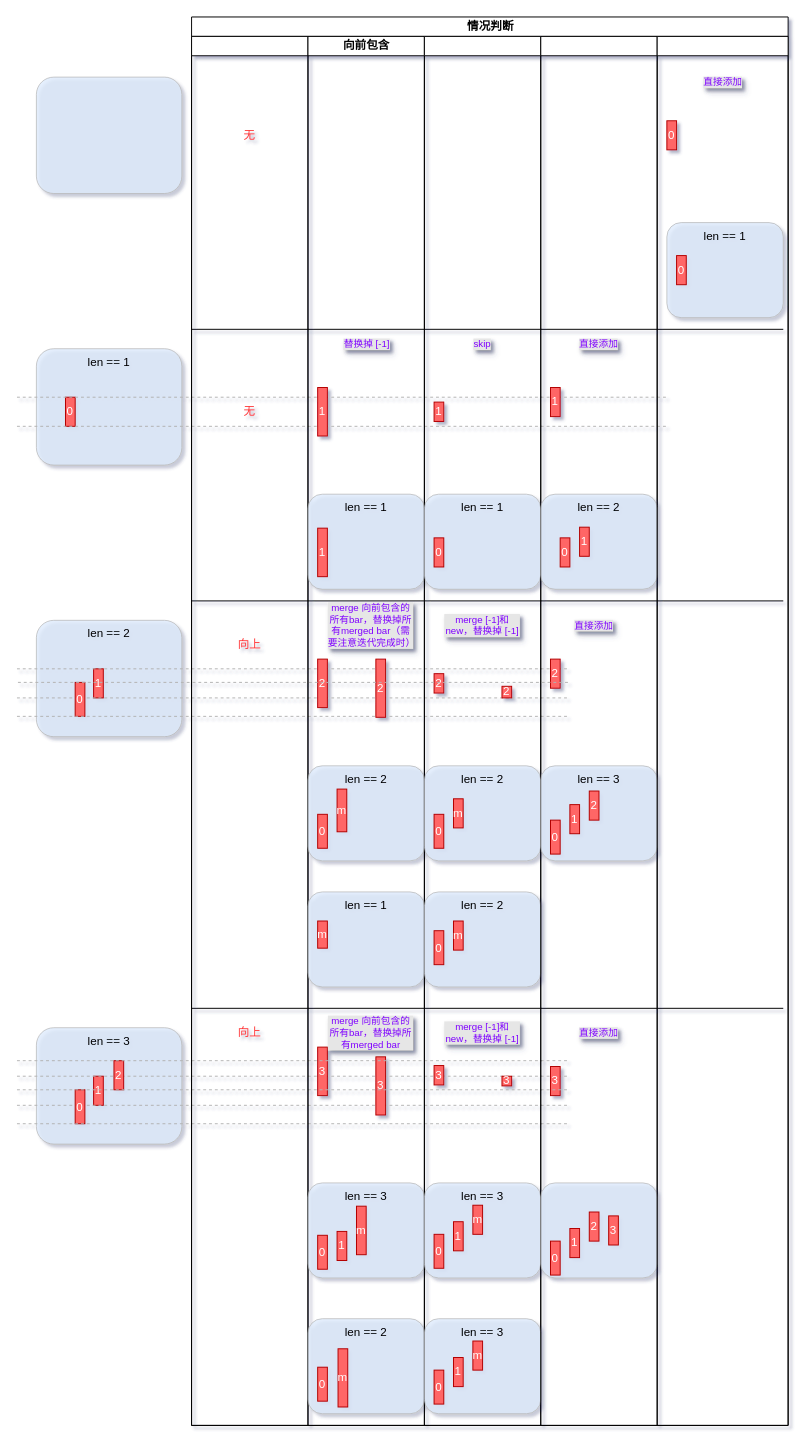
Some shapes in this 811 by 1448 pixel diagram are drawn without their labels. Each missing label, with the box of its shape:
len == 0: (35, 76, 182, 194)
len == 4: (540, 1182, 657, 1278)
不包含: (540, 35, 657, 1425)
其他: (656, 35, 788, 1425)
向后包含: (423, 35, 541, 1425)
方向: (191, 35, 308, 1425)
